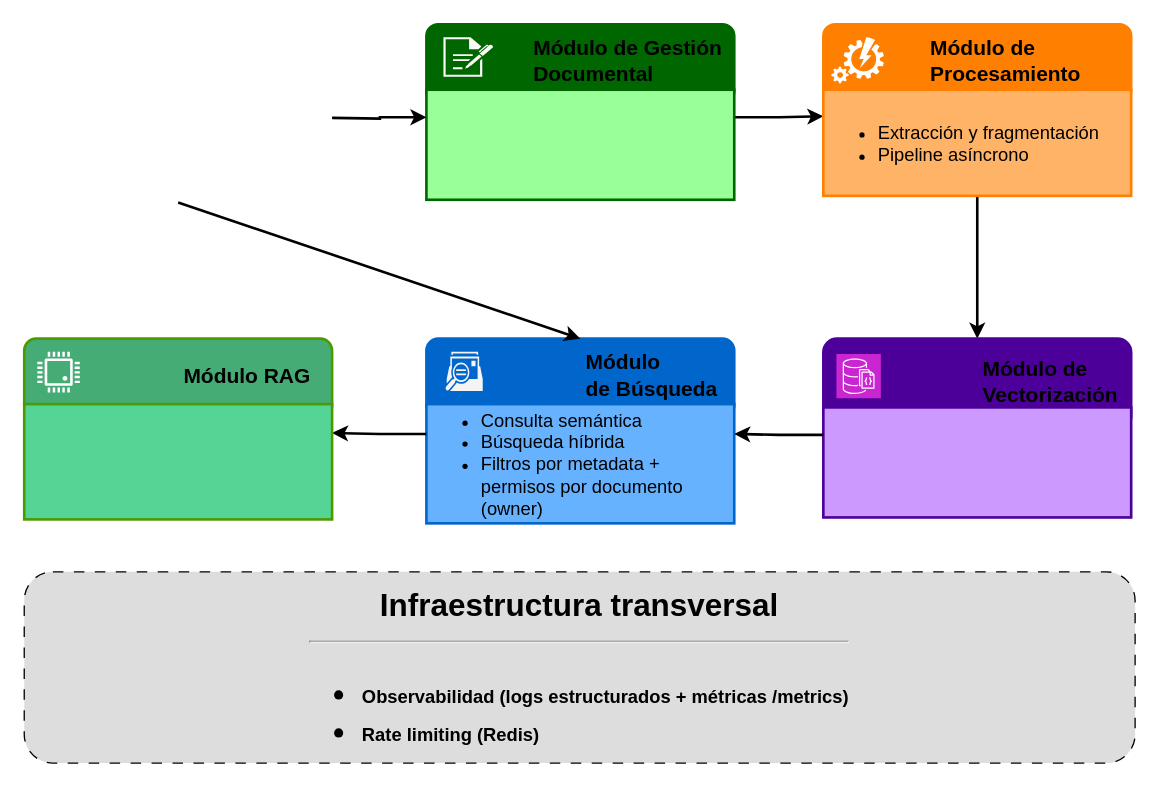
Image size: 1158x803. Some labels were removed from this diagram. The centre of each missing label's shape, as x and y in pixels:
Generación de embeddings Almacenamiento vectorial: pixel 976 461
Recuperación y contexto Generación de respuestas: pixel 177 461
Subida y versionado Metadata: pixel 579 144
